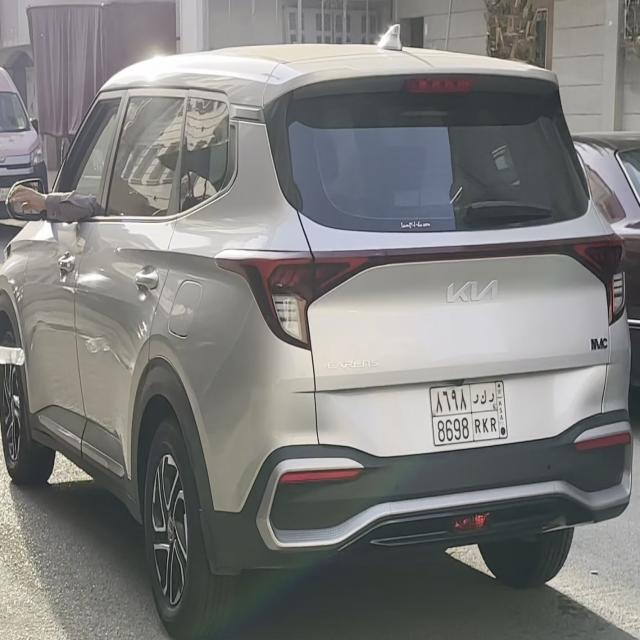Car-plate: (424, 377, 513, 453)
